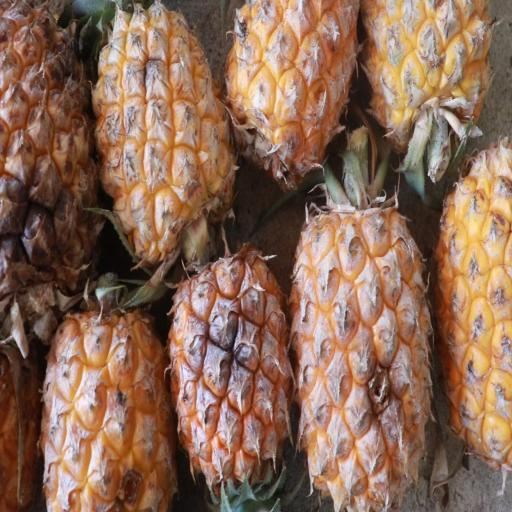Pineapple - v8 v1: (293, 161, 441, 512), (92, 0, 243, 259), (0, 0, 105, 338), (39, 267, 180, 512), (169, 236, 299, 501), (227, 0, 363, 191), (435, 139, 512, 475), (362, 0, 494, 167)
